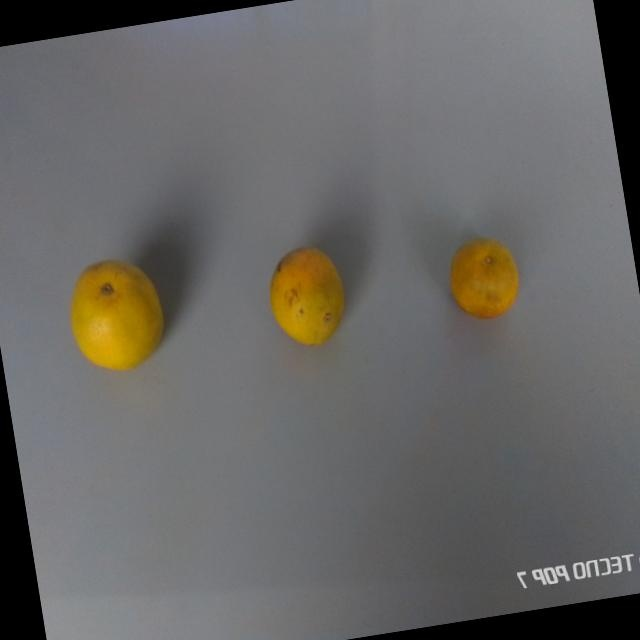agrume: (51, 235, 189, 385), (248, 235, 355, 363), (433, 226, 536, 342)
